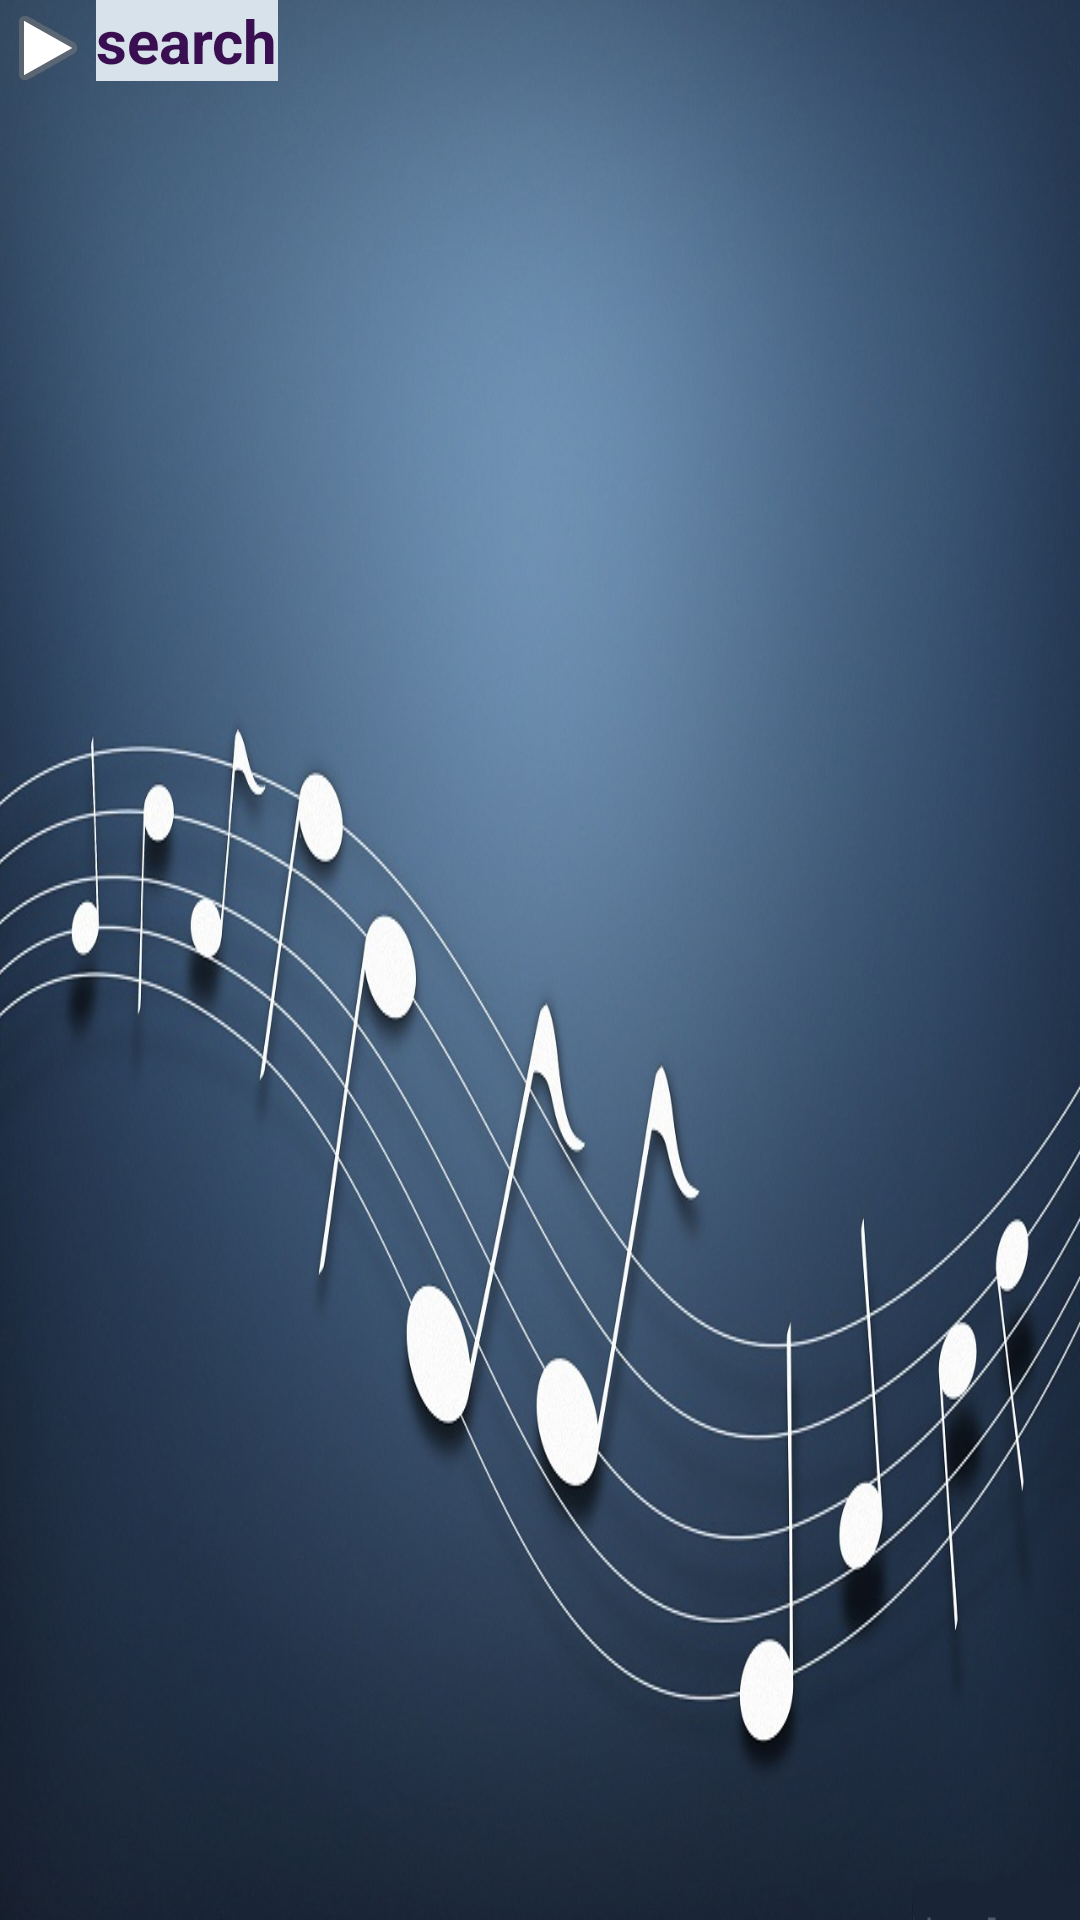

Point at icon controls on the screen. Image size 1080px×1920px, points as (x=x, y=y).
play: (x=48, y=48)
